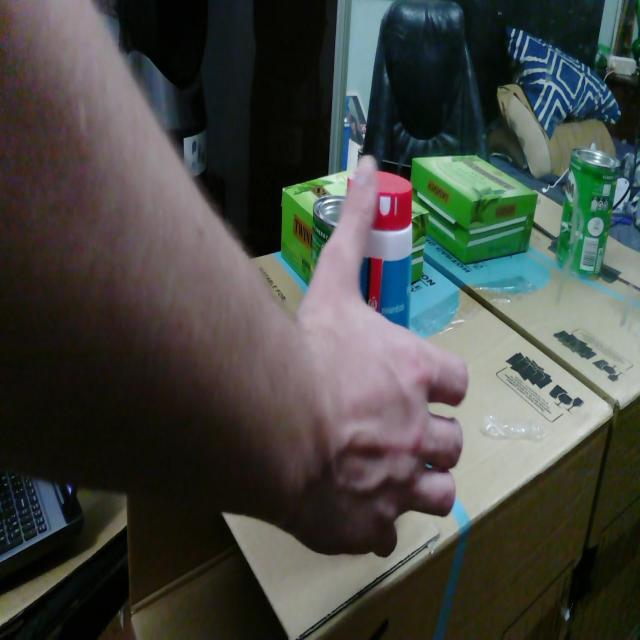nestle_milo_tin: (309, 195, 346, 287)
twinings_greentea_box: (281, 169, 357, 287), (412, 200, 429, 282)
woolworths_salt_bottle: (360, 171, 412, 330), (347, 172, 357, 193)
